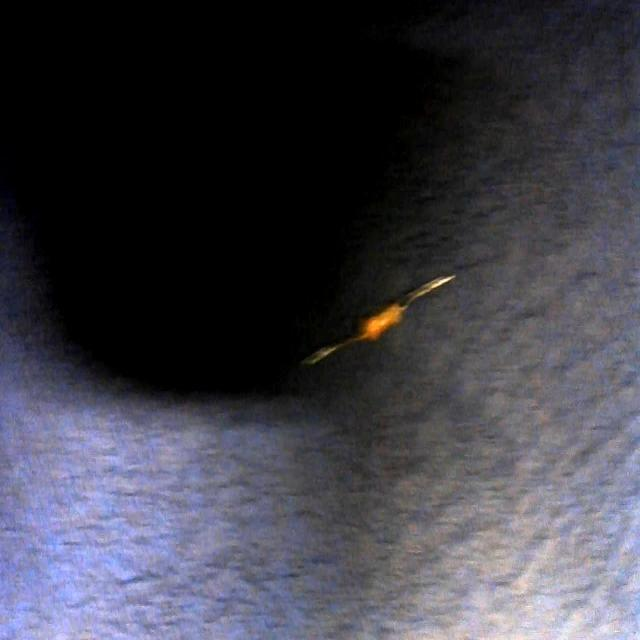resistor: (308, 274, 456, 367)
